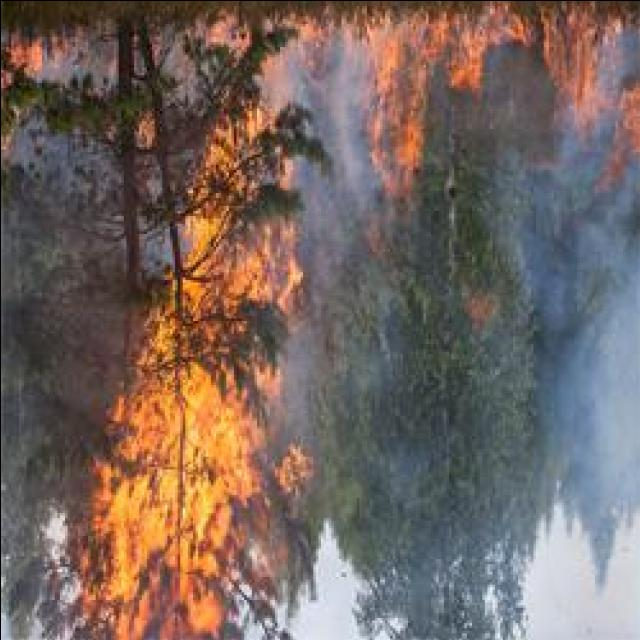fire: (84, 360, 274, 614), (364, 34, 425, 190), (242, 225, 306, 307)
smoke: (582, 281, 640, 481), (284, 528, 376, 640), (529, 530, 619, 638), (524, 107, 618, 207)
